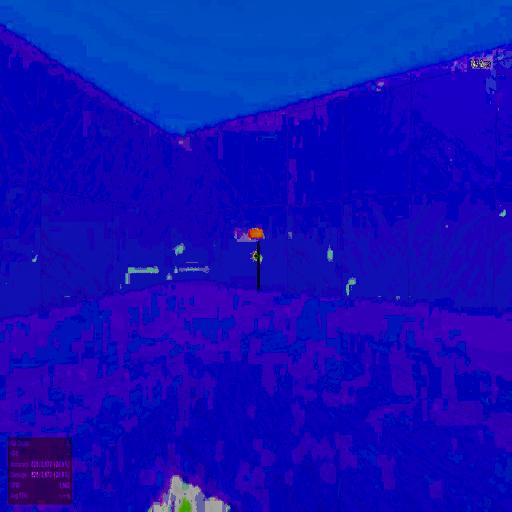Crosshair: (254, 252, 258, 260)
Target: (257, 239, 260, 291)
